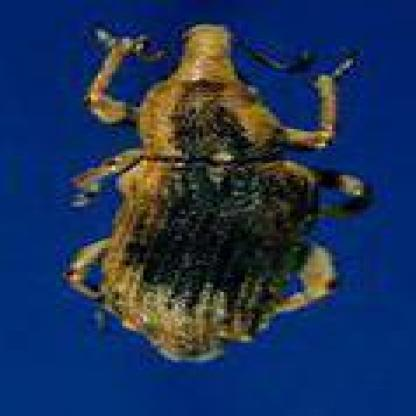rice-bug: (71, 21, 363, 361)
